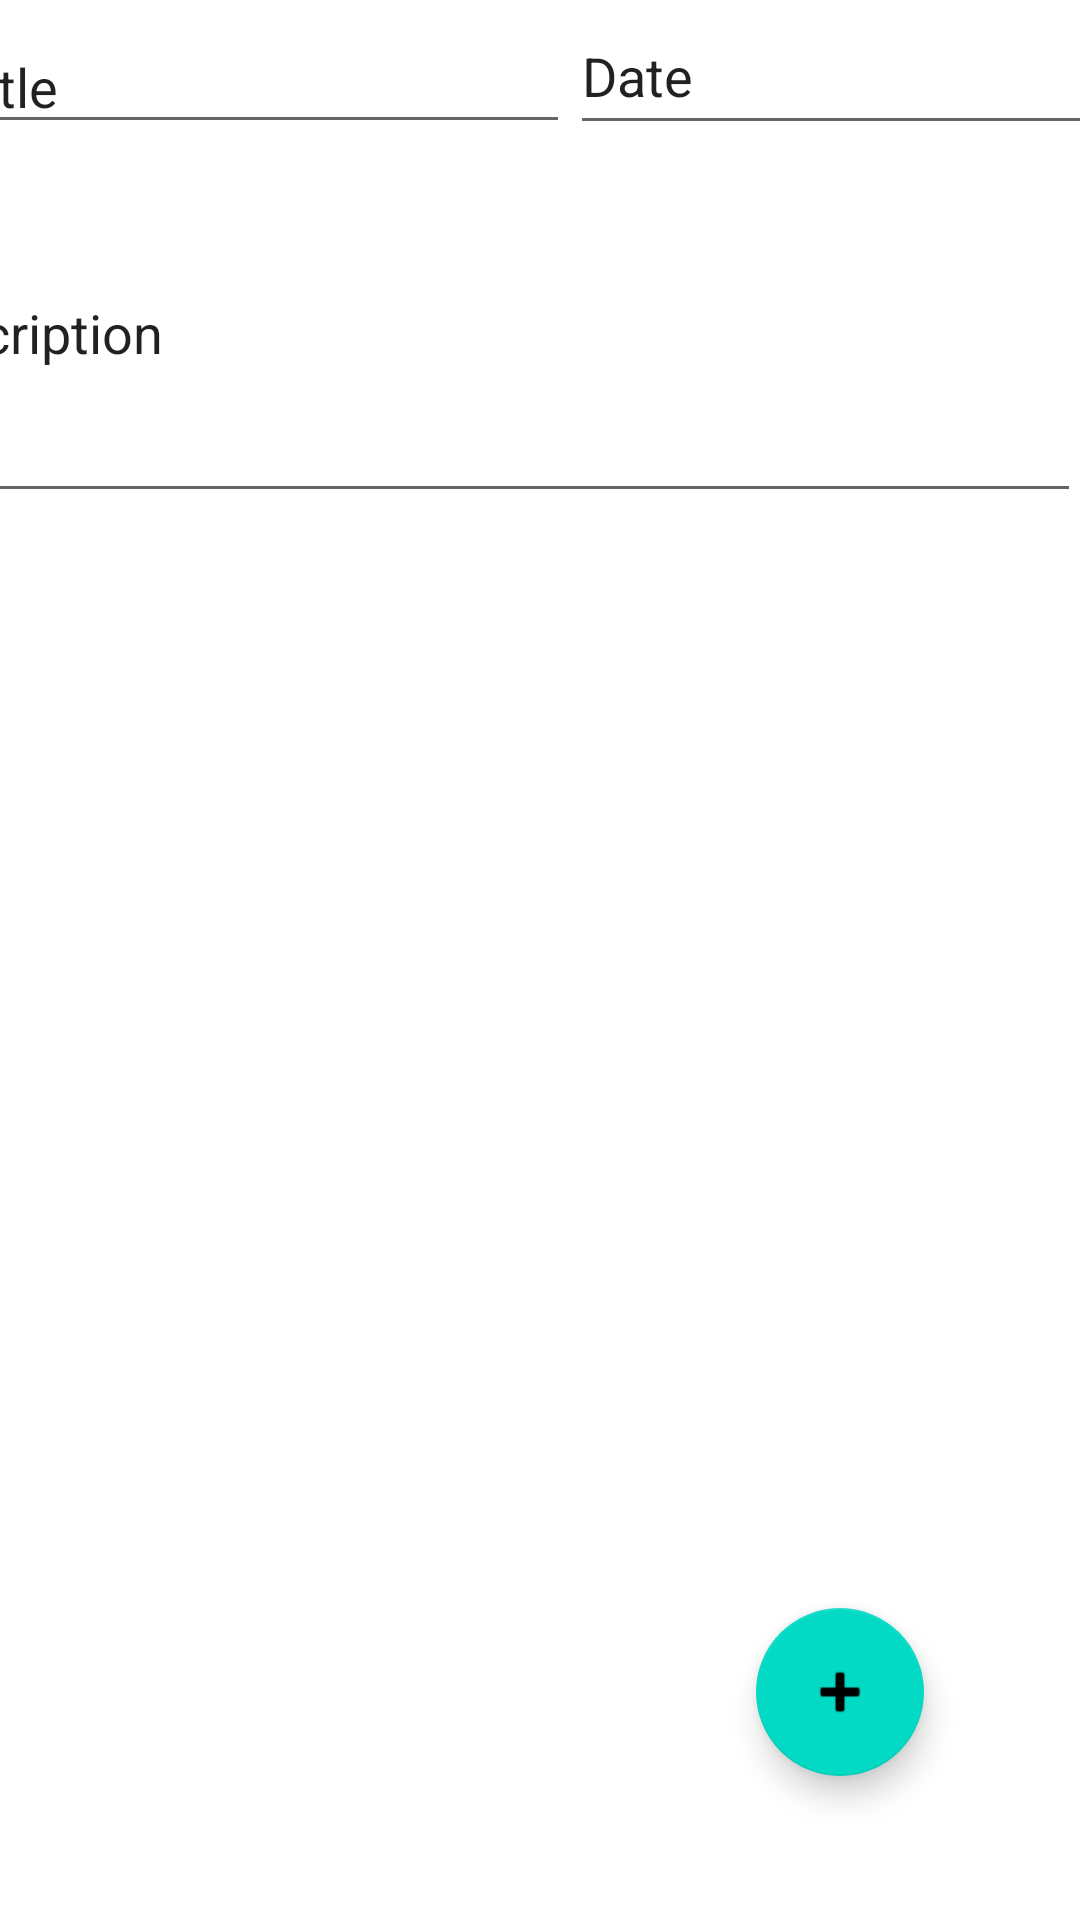

Icon click points for this 1080x1920 phone screenshot, format point (x, y):
add: point (840, 1692)
